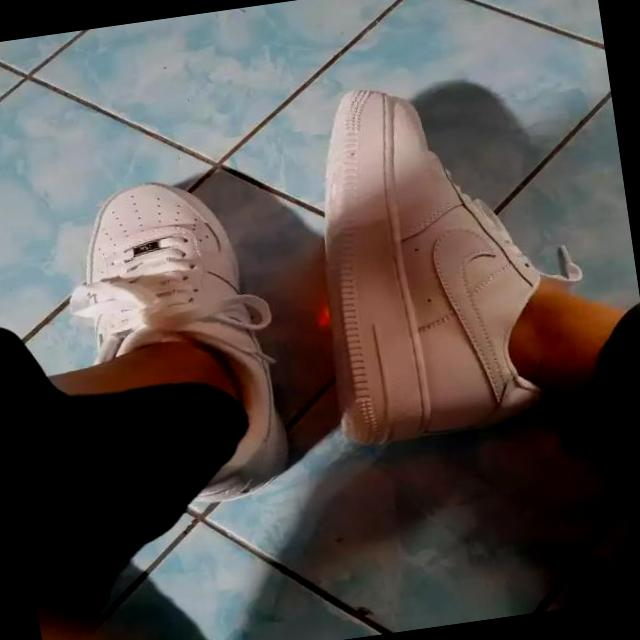nike_fake_airforce: (296, 61, 576, 447), (64, 168, 300, 515)
